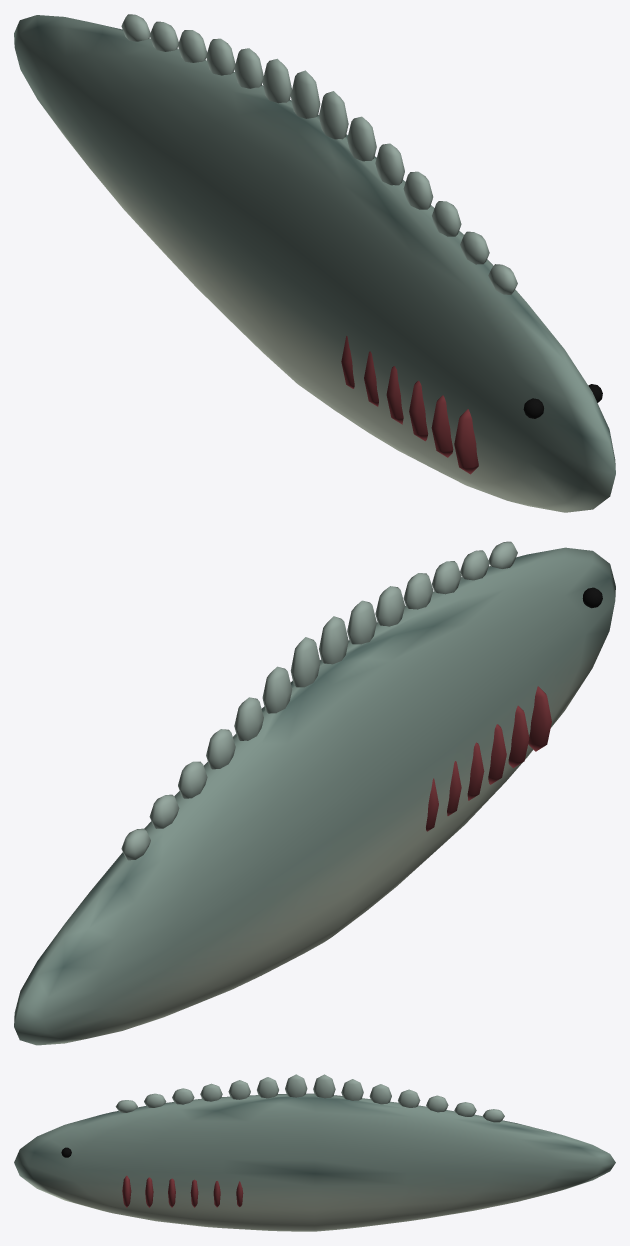
File: Yunnanozoon.fbx
3 renders of one model, top to bottom at view 1: azimuth 30°, elevation 25°; view 2: azimuth 150°, elevation 25°; view 3: azimuth 270°, elevation 25°, orthographic. The views are drawn at different scales.
Parts seen in each view (by area): view 1: Yunnanozoon; view 2: Yunnanozoon; view 3: Yunnanozoon.
Boxes of the visible parts, x1,y1,x2,y2 form: Yunnanozoon: (14, 14, 615, 512); Yunnanozoon: (14, 541, 615, 1045); Yunnanozoon: (14, 1074, 615, 1231).
Bounding box in the file's own units: 0.15 × 0.4591 × 1.6.
